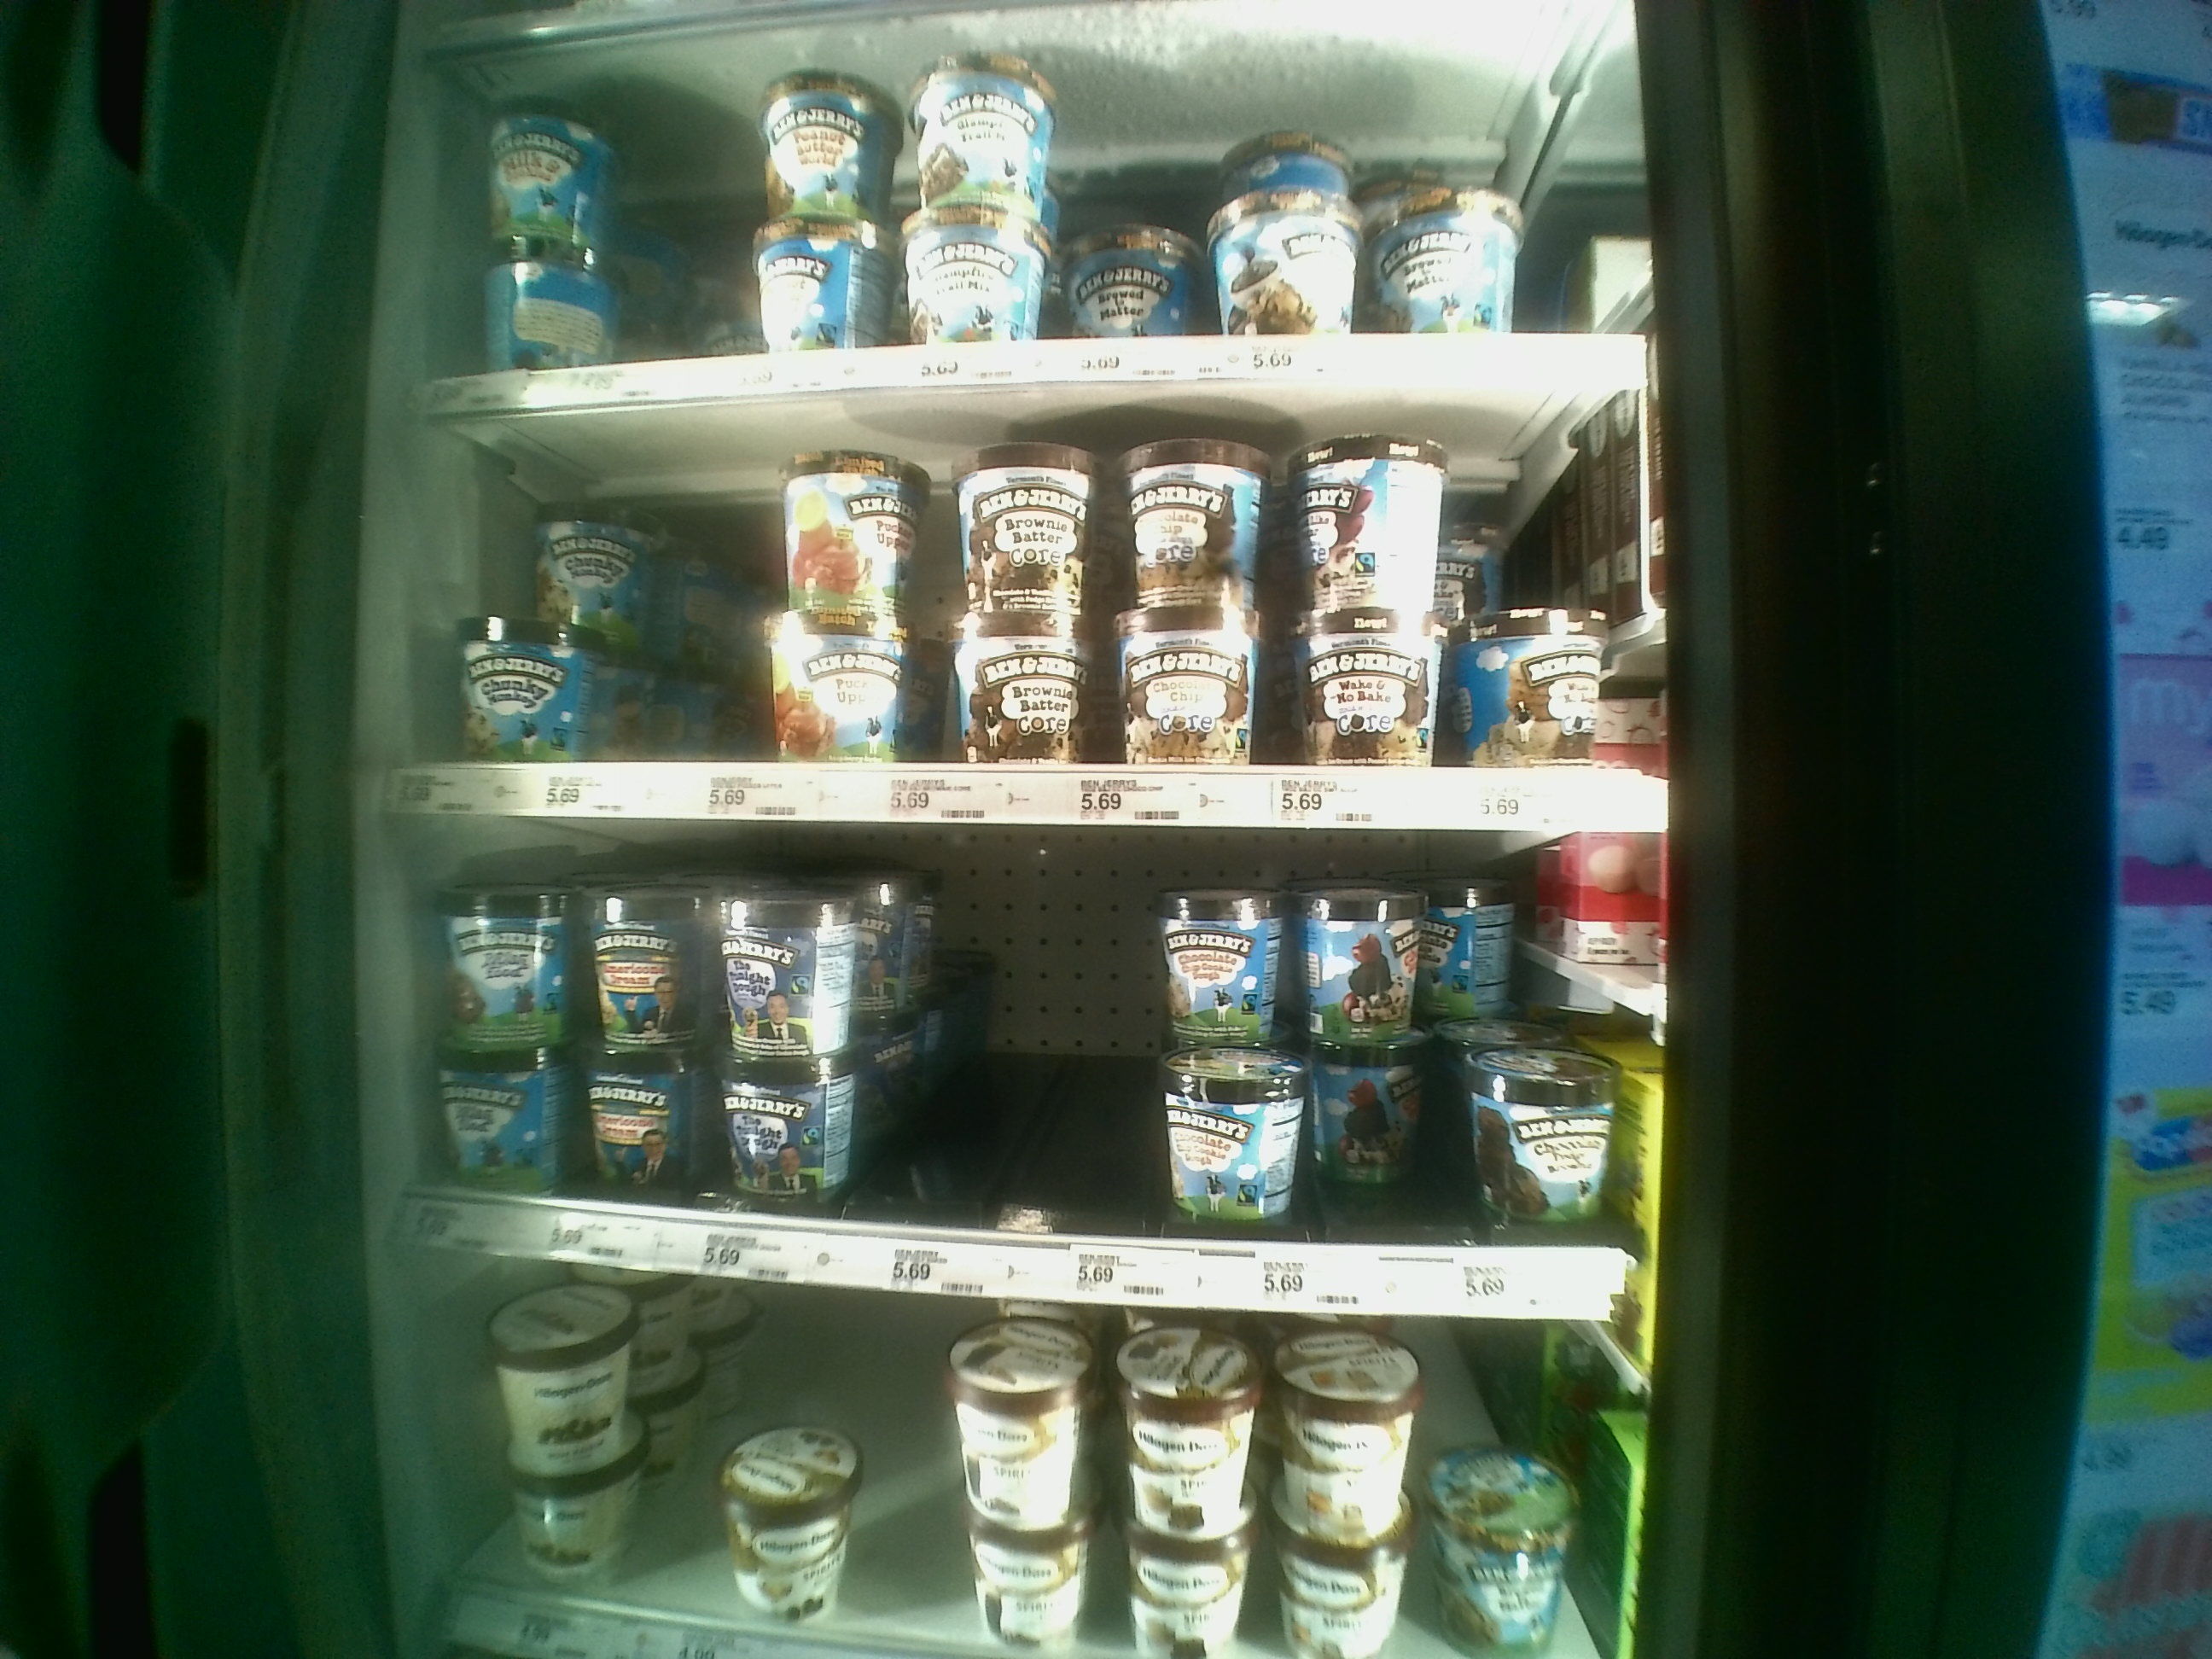ice-cream-shelf: (383, 814, 1674, 1297), (423, 394, 1627, 829)
